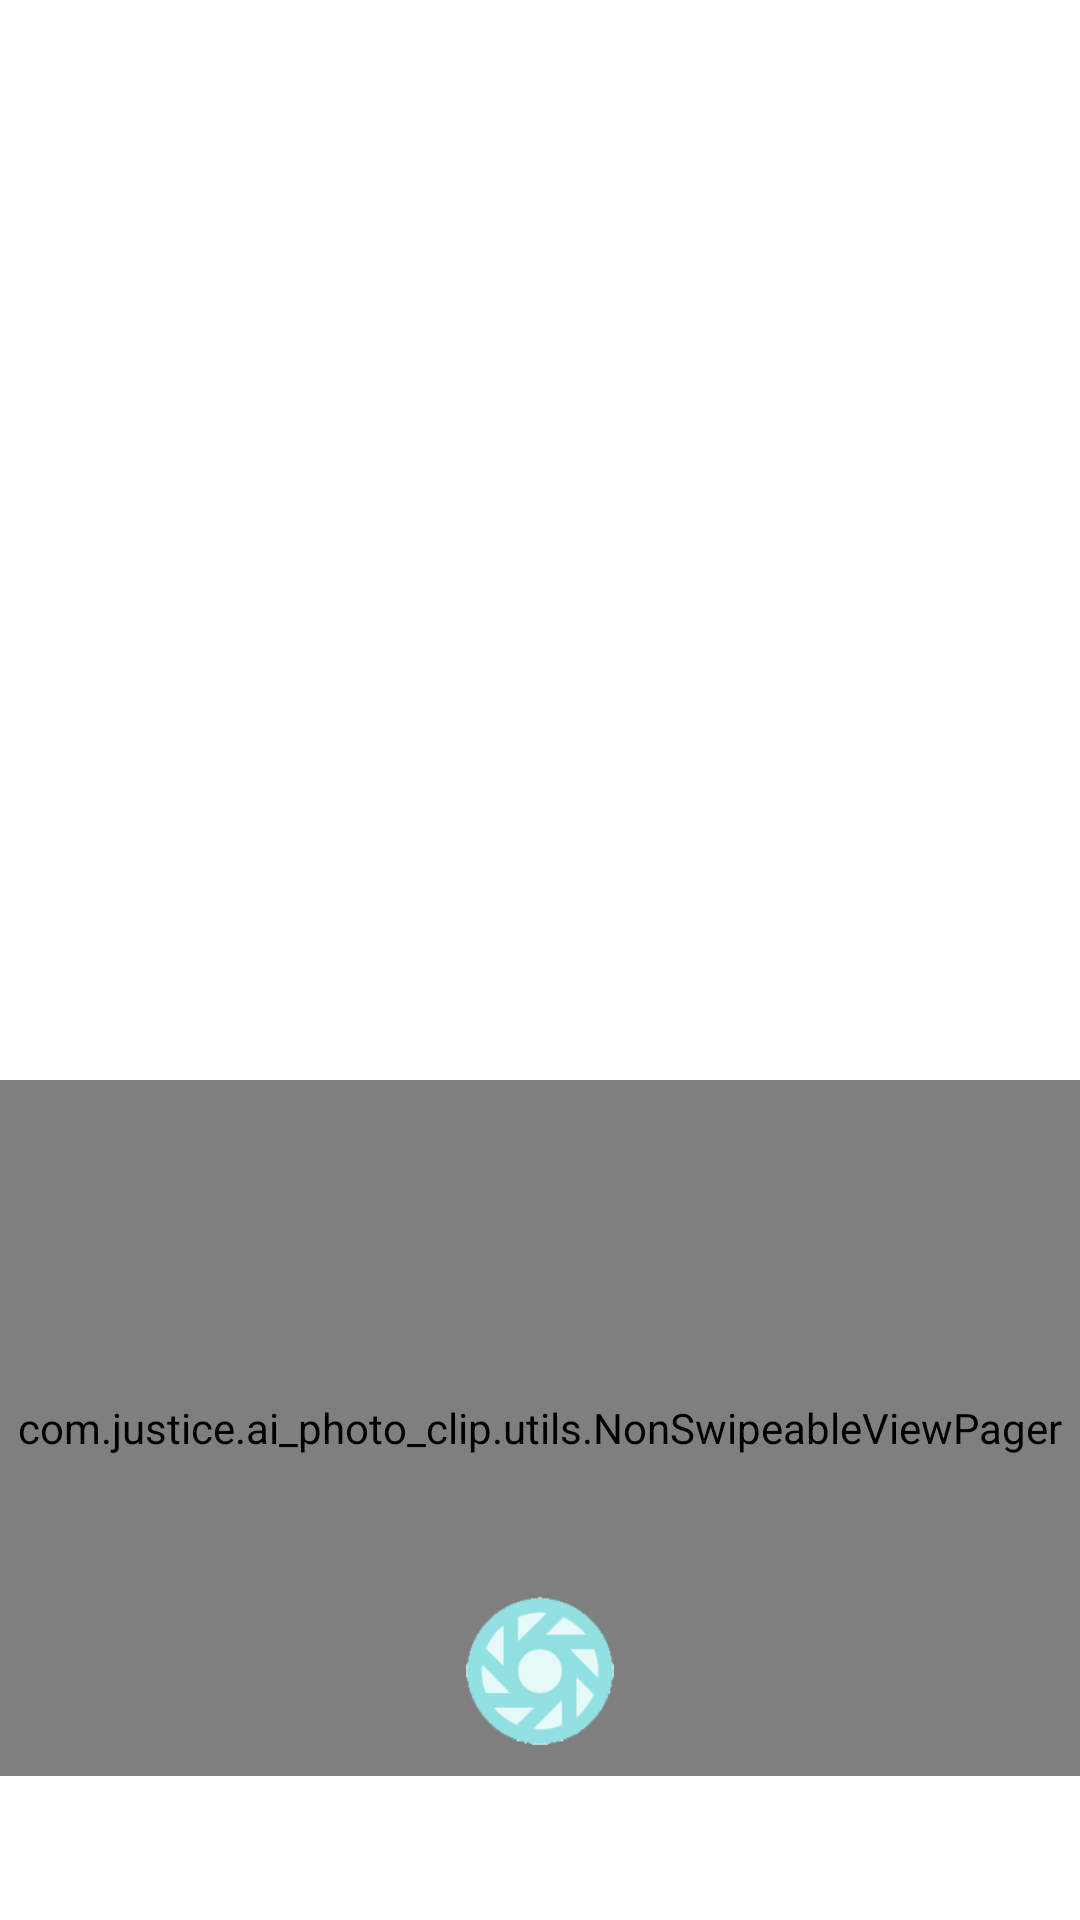

Point at icon controls on the screen. Image size 1080px x 1920px, points as [x,y].
camera on: [540,1671]
